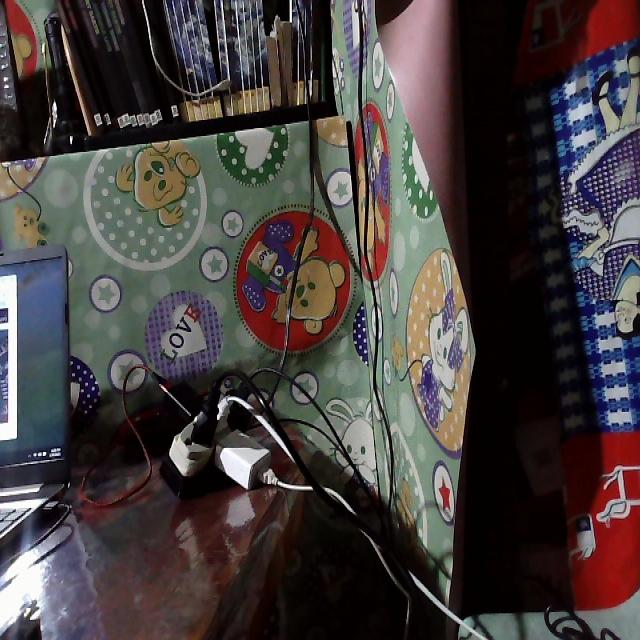-: (158, 368, 278, 489)
